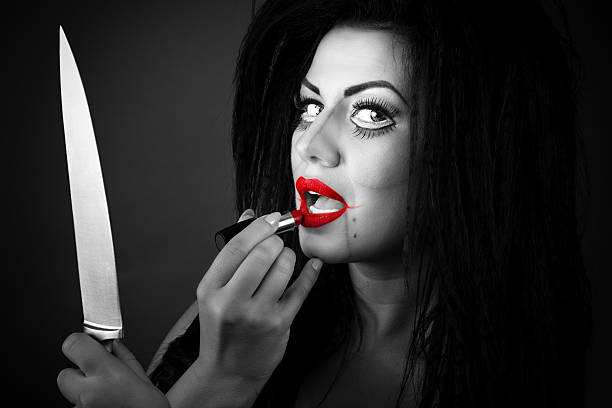knife: (55, 24, 126, 353)
